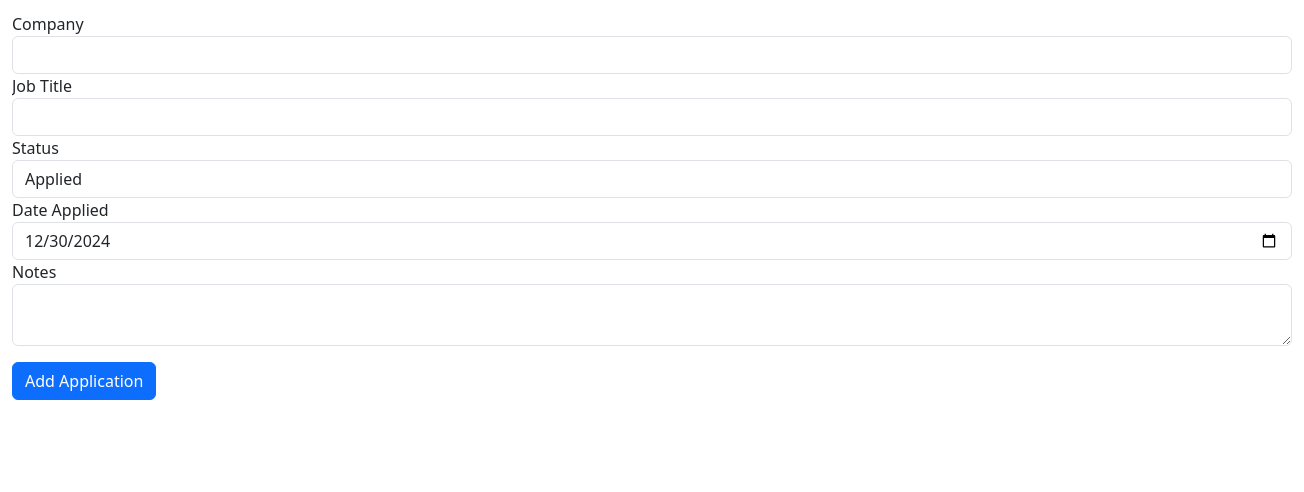
Scenario: AddApplicationForm › displays validation errors for empty required fields
The image size is (1304, 492).
Clear the date field labelled "Date Applied" at (652, 241), box left=12, top=222, right=1292, bottom=260
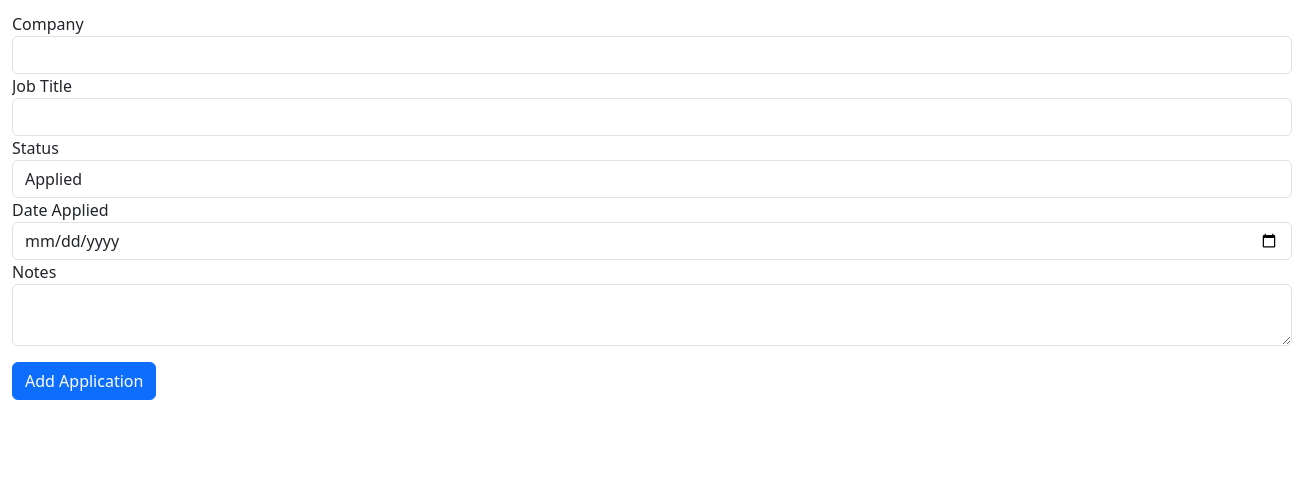
Click the button "Add Application" at (84, 381), box left=12, top=362, right=156, bottom=400
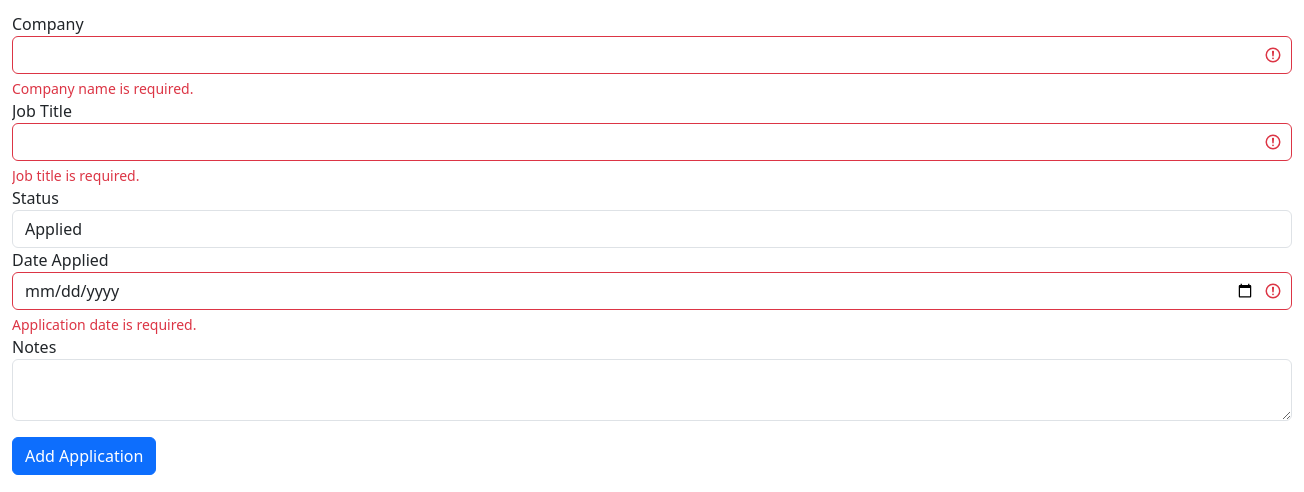
Now the text "Company name is required." is shown, box left=12, top=79, right=193, bottom=98
Now the text "Job title is required." is shown, box left=12, top=166, right=139, bottom=185
Now the text "Application date is required." is shown, box left=12, top=315, right=196, bottom=334
